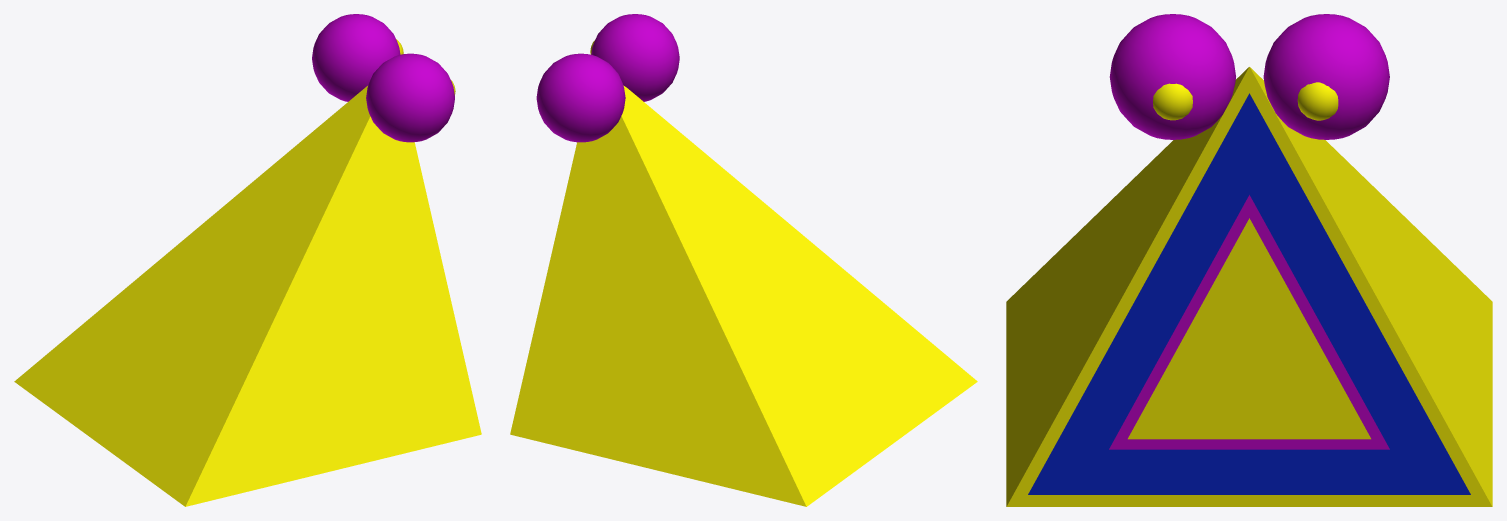
Rendered from triangulo.obj.
The picture shows the model from 3 angles, left to right: view 1: azimuth 30°, elevation 25°; view 2: azimuth 150°, elevation 25°; view 3: azimuth 270°, elevation 25°; orthographic projection. The views are drawn at different scales.
Visible parts, largest first — view 1: Pyramid, Sphere.1, Sphere; view 2: Pyramid, Sphere, Sphere.1; view 3: Pyramid, Sphere.1, Sphere, Sphere.3, Sphere.2.
Boxes of the visible parts, x1,y1,x2,y2 form: Pyramid: [14, 86, 481, 506]; Sphere.1: [366, 53, 454, 142]; Sphere: [312, 14, 400, 101]; Pyramid: [510, 85, 977, 506]; Sphere: [536, 53, 625, 142]; Sphere.1: [591, 14, 679, 101]; Pyramid: [1006, 67, 1492, 506]; Sphere.1: [1109, 14, 1235, 139]; Sphere: [1263, 14, 1389, 139]; Sphere.3: [1297, 82, 1338, 120]; Sphere.2: [1153, 83, 1192, 120].
Size of the model in its own units: 182 by 179 by 165.
